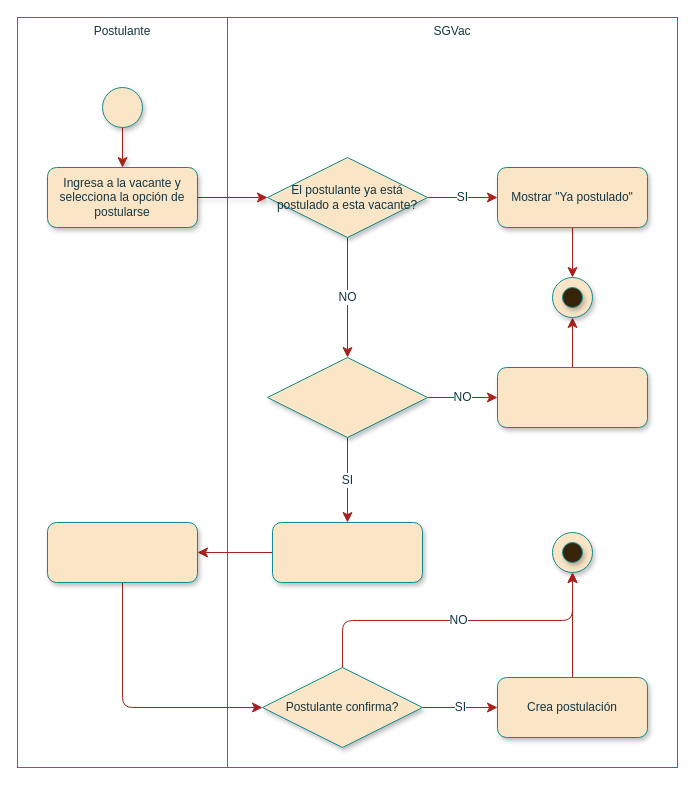
Image size: 695x785. Some labels were removed from this diagram. Each missing label, with the centre of its shape:
Acepta o cancela: [123,554]
Cambiar a "Cargar Currículum": [573,398]
El postulante tiene un currículum cargado?: [348,398]
Muestra diálogo de confirmación: [348,554]
